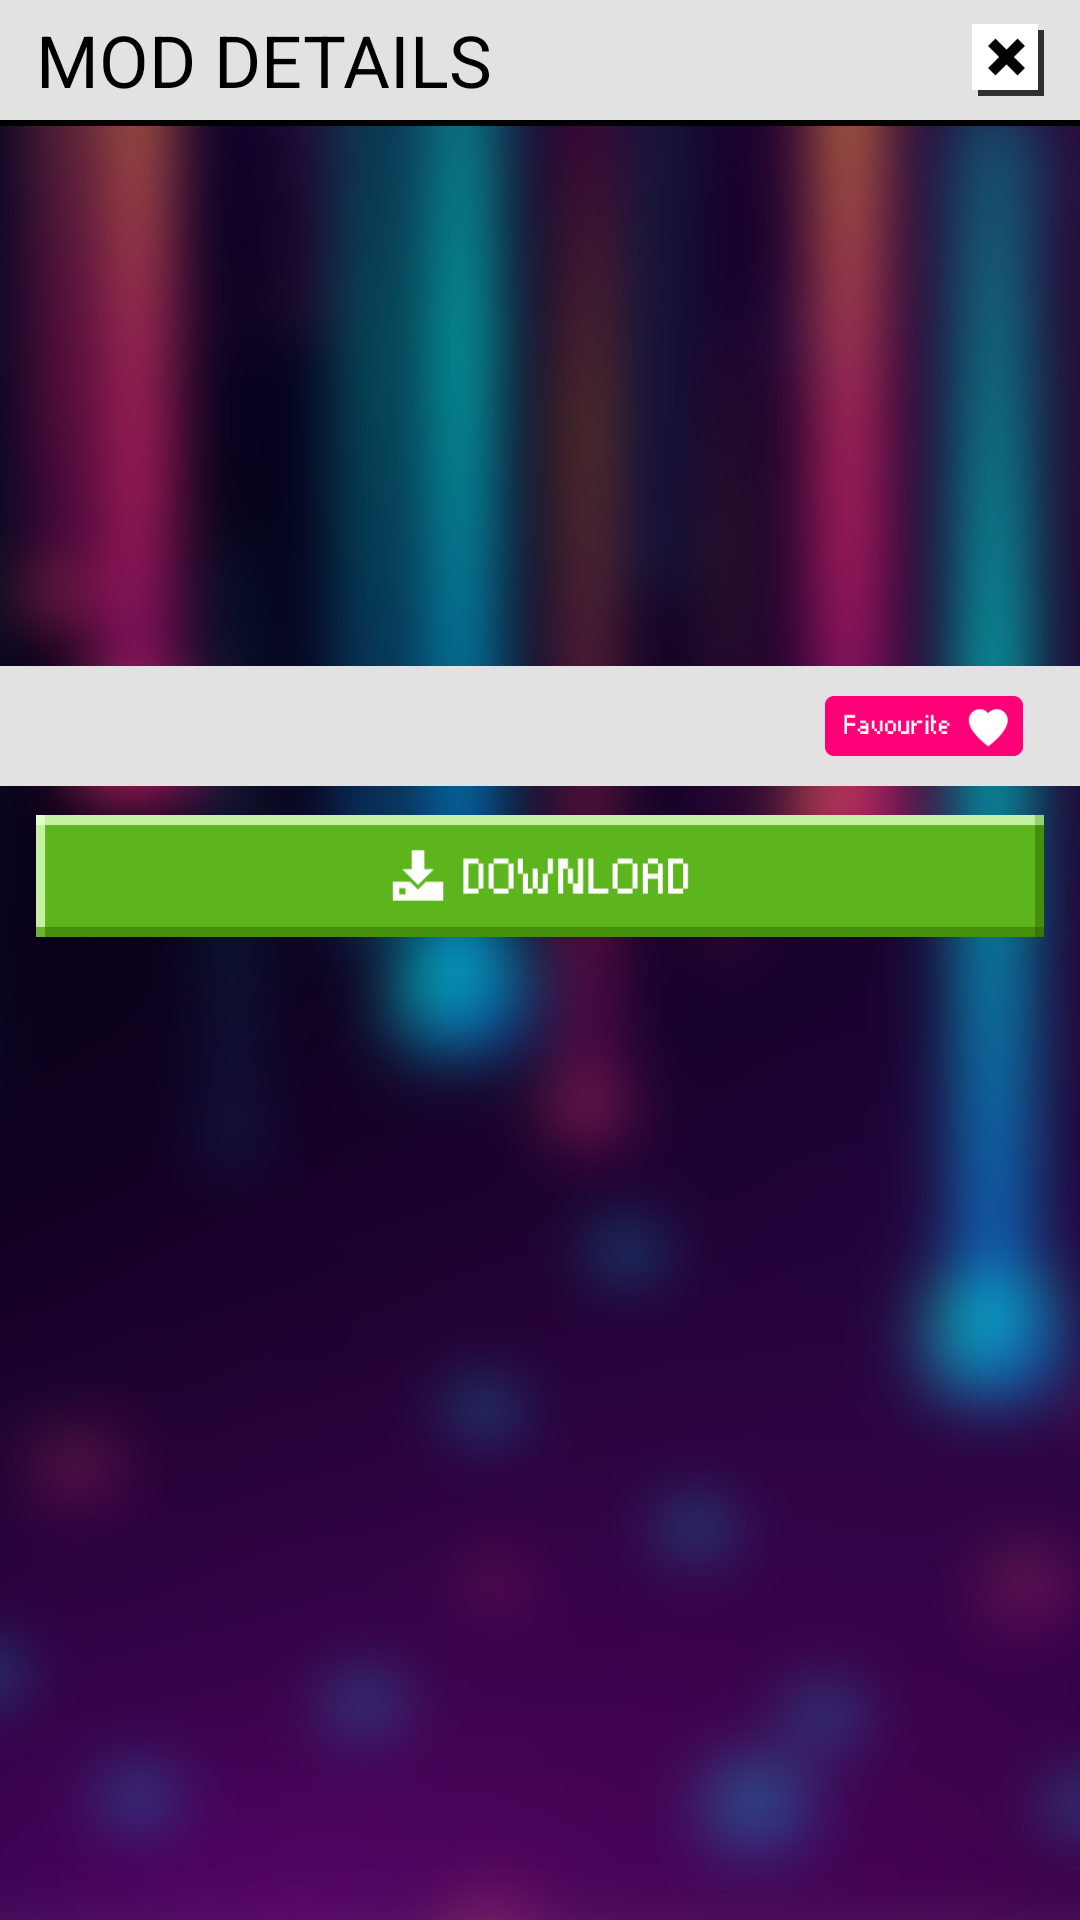

Screen size 1080 × 1920. Icon name, then its box in pixels as [x1=x1, y1=y1, x2=x2, y2=y2]:
close: [x1=972, y1=24, x2=1044, y2=96]
